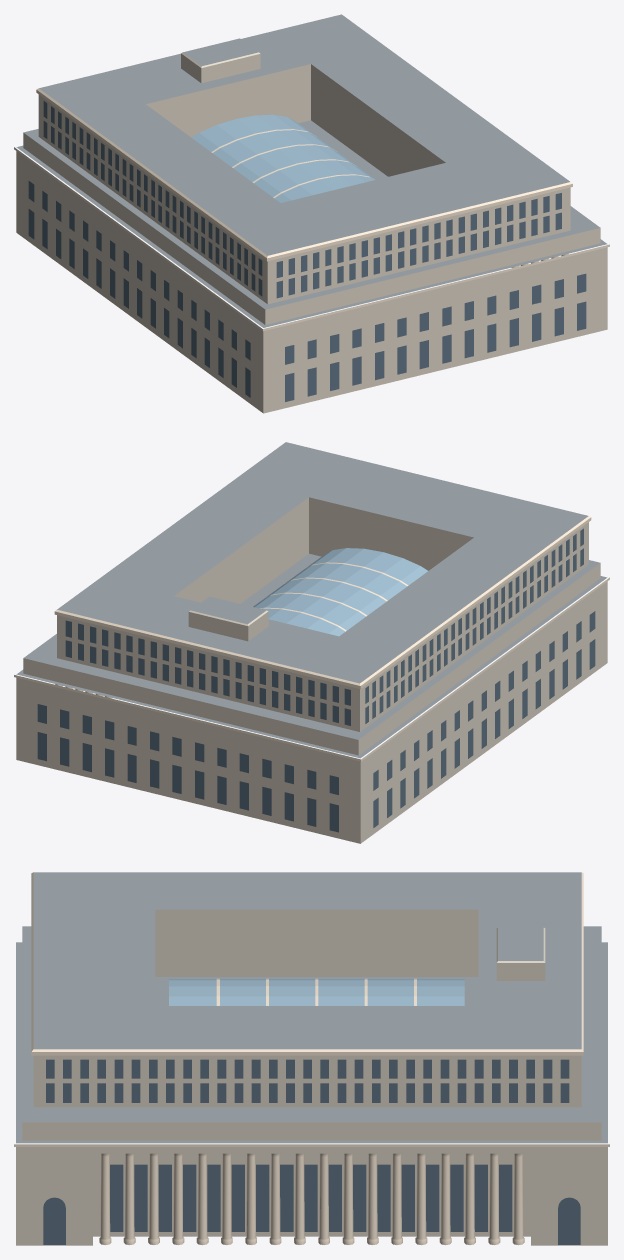
The model's file is chi-union-station.glb.
The picture shows the model from 3 angles, top to bottom: view 1: azimuth 30°, elevation 25°; view 2: azimuth 150°, elevation 25°; view 3: azimuth 270°, elevation 25°; orthographic projection. The views are drawn at different scales.
Visible parts, largest first — view 1: Chicago Union Station; view 2: Chicago Union Station; view 3: Chicago Union Station.
Part boxes in pixels (x1,y1,x2,y2): Chicago Union Station: (14, 14, 609, 413); Chicago Union Station: (14, 442, 609, 843); Chicago Union Station: (14, 872, 609, 1245).
Size of the model in its own units: 93.5 by 42.7 by 116.
